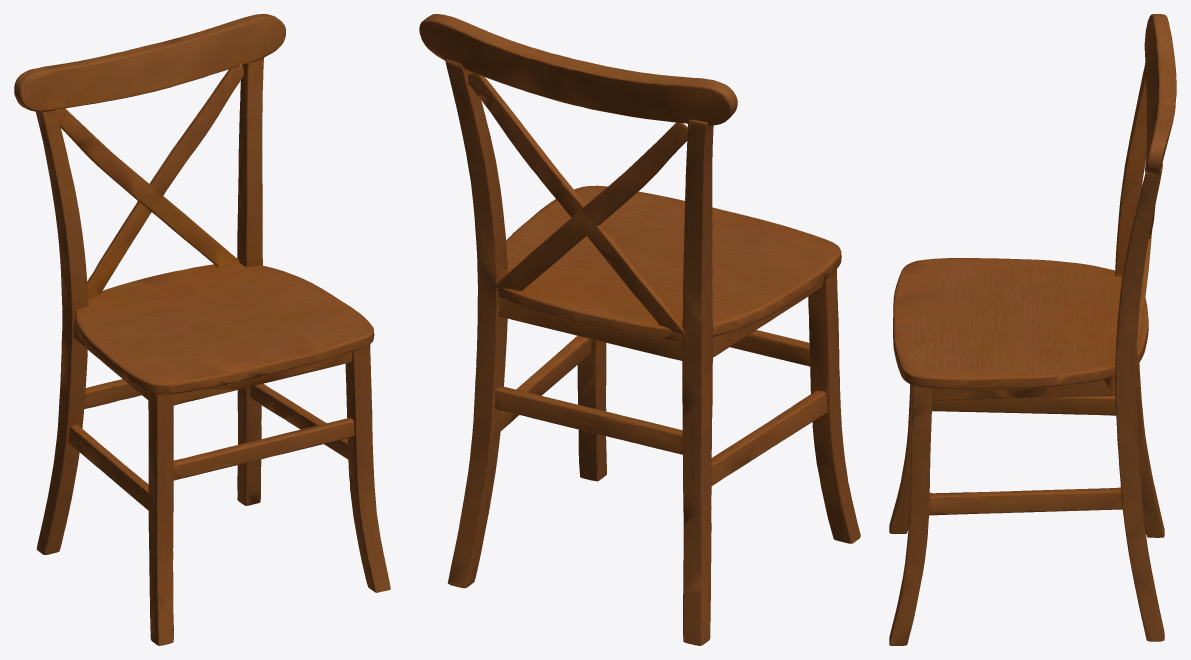
The model's file is xchair.lo.glb.
3 views of the same model, side by side, from view 1: azimuth 30°, elevation 25°; view 2: azimuth 150°, elevation 25°; view 3: azimuth 270°, elevation 25° (orthographic). The views are drawn at different scales.
Visible parts, largest first — view 1: Mesh; view 2: Mesh; view 3: Mesh.
Part boxes in pixels (x1=…): Mesh: x1=14, y1=14, x2=390, y2=645; Mesh: x1=419, y1=14, x2=860, y2=645; Mesh: x1=889, y1=14, x2=1176, y2=645.
Bounding box in the file's own units: 1.09 × 1.89 × 0.9638.
Materials: 1 (1 with a texture image).
